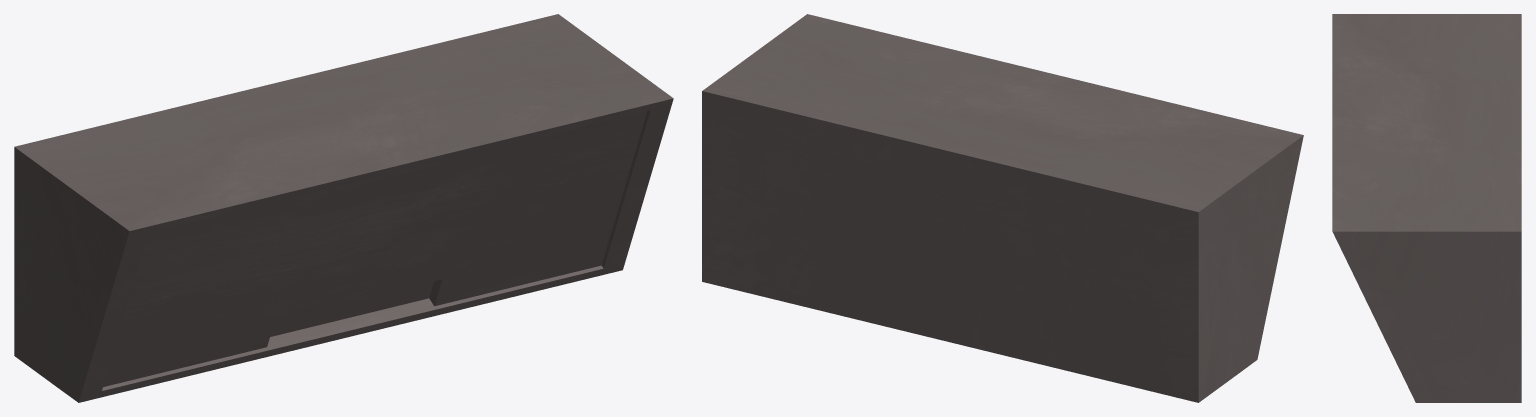
File: Gabetas.fbx
3 renders of one model, left to right at view 1: azimuth 30°, elevation 25°; view 2: azimuth 150°, elevation 25°; view 3: azimuth 270°, elevation 25°, orthographic. The views are drawn at different scales.
Visible parts, largest first — view 1: Cube.001; view 2: Cube.001; view 3: Cube.001.
Boxes of the visible parts, x1,y1,x2,y2 form: Cube.001: (14,14,673,402); Cube.001: (702,14,1303,402); Cube.001: (1332,14,1521,402).
Bounding box in the file's own units: 545 × 200 × 200.
